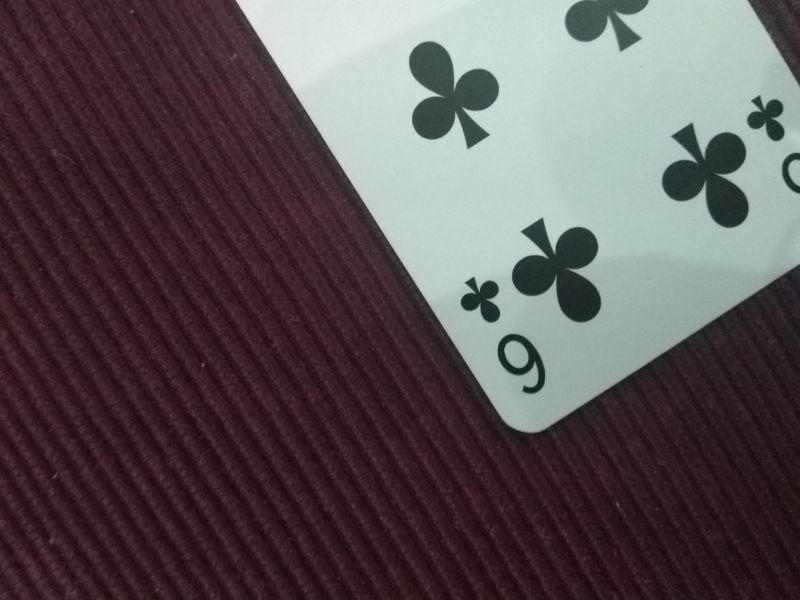6c: (452, 269, 551, 401)
